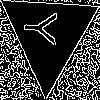Y: (23, 10, 65, 47)
